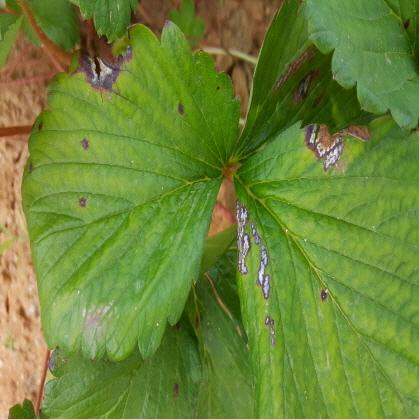Leaf Spot: (20, 15, 241, 361), (231, 114, 418, 418), (40, 221, 253, 418), (226, 0, 418, 163)
